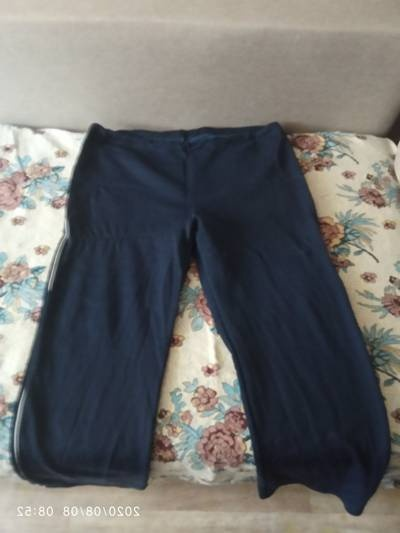Pants: (2, 89, 383, 503)
